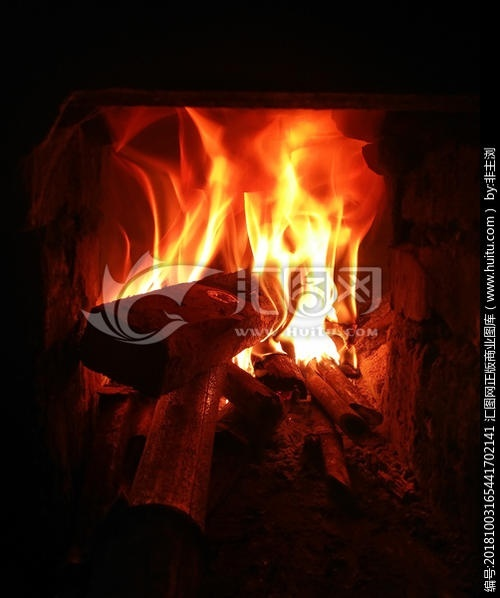fire: (102, 107, 371, 366), (239, 114, 365, 369)
